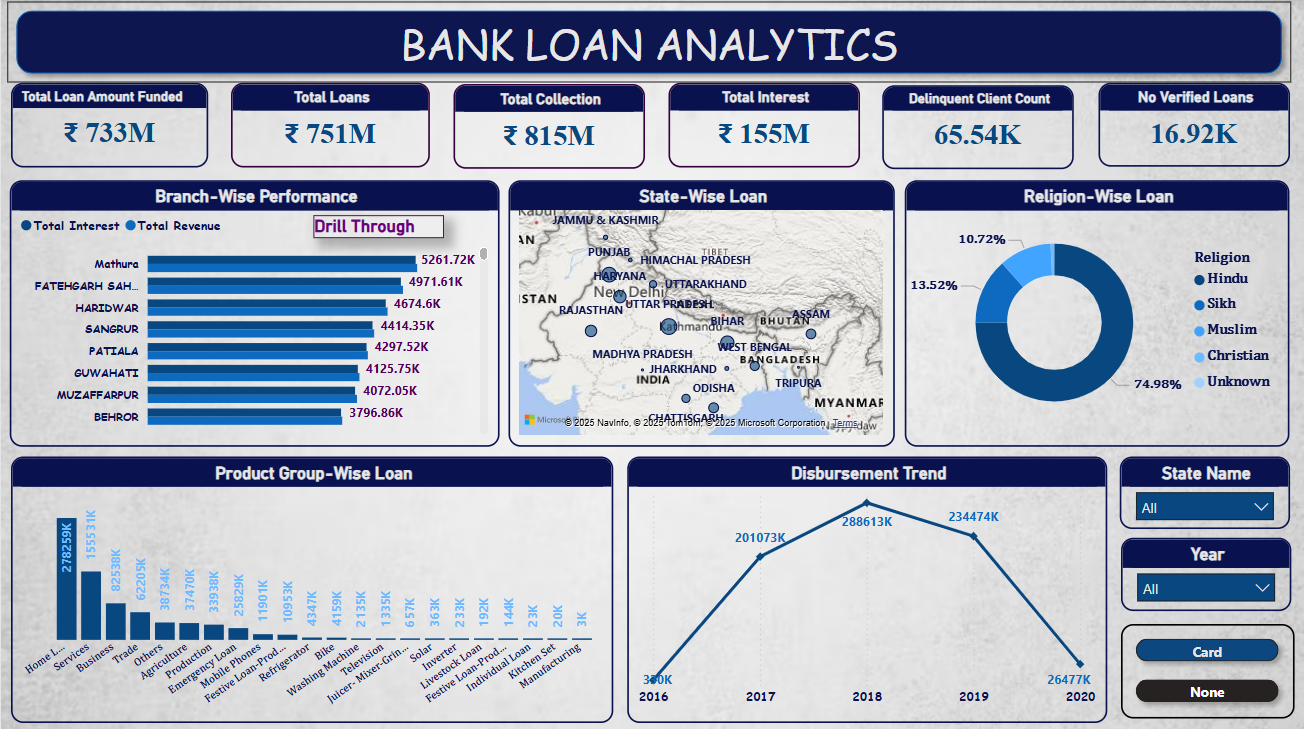

What the dashboard file says about the page in this screenshot:
{"tool":"tableau","page":{"name":"Dashboard 1","canvas":[1000,1000],"units":"permille","ordinal":0},"visuals":[{"type":"title","box":[4.8,10,897.4,64.9]},{"type":"filter","title":"State-Wise Performance","param":"[federated.1kfujmh1aarebc15erkji1qe8vi7].[none:State_Name:nk]","box":[902.2,10,92.9,299.6]},{"type":"worksheet","title":"Total loan amount funded","mark":"Text","box":[4.8,79.2,159.7,99.3]},{"type":"worksheet","title":"Total Collection","mark":"Automatic","box":[164.6,79.2,139.4,99.3]},{"type":"worksheet","title":"Total Loans","mark":"Automatic","box":[304,79.2,163,99.3]},{"type":"worksheet","title":"No Verified Loans","mark":"Automatic","box":[466.9,79.2,145.1,99.3]},{"type":"worksheet","title":"Default Loan Count","mark":"Automatic","box":[612,79.2,145.1,99.3]},{"type":"worksheet","title":"Total Interest","mark":"Automatic","box":[757.1,79.2,145.1,99.3]},{"type":"worksheet","title":"Religion-Wise Loan Distribution","mark":"Pie","box":[4.8,178.5,278.8,320.3]},{"type":"worksheet","title":"Loan Status-Wise Loan","mark":"Circle","rows":["Calculation_873416870375927813","Calculation_873416870375940103"],"box":[283.7,178.5,253.4,320.3]},{"type":"worksheet","title":"Product Group-Wise Loan","mark":"Bar","rows":["Loan_Amount"],"cols":["Purpose_Category"],"box":[537.1,178.5,365.2,320.3]},{"type":"filter","title":"Disbursement Trend","param":"[federated.1kfujmh1aarebc15erkji1qe8vi7].[mn:Disbursement_Date:qk]","box":[902.2,309.6,92.9,91.1]},{"type":"filter","title":"Loan Status-Wise Loan","param":"[federated.1kfujmh1aarebc15erkji1qe8vi7].[none:Loan_Status:nk]","box":[902.2,400.8,92.9,299.6]},{"type":"worksheet","title":"State-Wise Performance","mark":"Automatic","rows":["State_Name"],"cols":["Total_Fees"],"box":[4.8,498.8,286.4,491.2]},{"type":"worksheet","title":"State-Wise Loan Distribution","mark":"Automatic","box":[291.2,498.8,250.2,491.2]},{"type":"worksheet","title":"Disbursement Trend","mark":"Automatic","rows":["Loan_Amount"],"cols":["Disbursement_Date"],"box":[541.4,498.8,360.8,491.2]},{"type":"filter","title":"State-Wise Performance","param":"[federated.1kfujmh1aarebc15erkji1qe8vi7].[none:Grade:nk]","box":[902.2,700.4,92.9,289.6]}]}

Visuals, with their boxes on the dashboard's canvas, which has no fixed pixel size, in thousandths of its width and height (x1, y1, x2, y2). These are canvas units, not pixel positions in the 1304x729 screenshot, which may show the page scaled, cropped or inside an application window:
title: bbox=(5, 10, 902, 75)
"State-Wise Performance" filter: bbox=(902, 10, 995, 310)
"Total loan amount funded" worksheet (Text marks): bbox=(5, 79, 164, 178)
"Total Collection" worksheet: bbox=(165, 79, 304, 178)
"Total Loans" worksheet: bbox=(304, 79, 467, 178)
"No Verified Loans" worksheet: bbox=(467, 79, 612, 178)
"Default Loan Count" worksheet: bbox=(612, 79, 757, 178)
"Total Interest" worksheet: bbox=(757, 79, 902, 178)
"Religion-Wise Loan Distribution" worksheet (Pie marks): bbox=(5, 178, 284, 499)
"Loan Status-Wise Loan" worksheet (Circle marks): bbox=(284, 178, 537, 499)
"Product Group-Wise Loan" worksheet (Bar marks): bbox=(537, 178, 902, 499)
"Disbursement Trend" filter: bbox=(902, 310, 995, 401)
"Loan Status-Wise Loan" filter: bbox=(902, 401, 995, 700)
"State-Wise Performance" worksheet: bbox=(5, 499, 291, 990)
"State-Wise Loan Distribution" worksheet: bbox=(291, 499, 541, 990)
"Disbursement Trend" worksheet: bbox=(541, 499, 902, 990)
"State-Wise Performance" filter: bbox=(902, 700, 995, 990)
